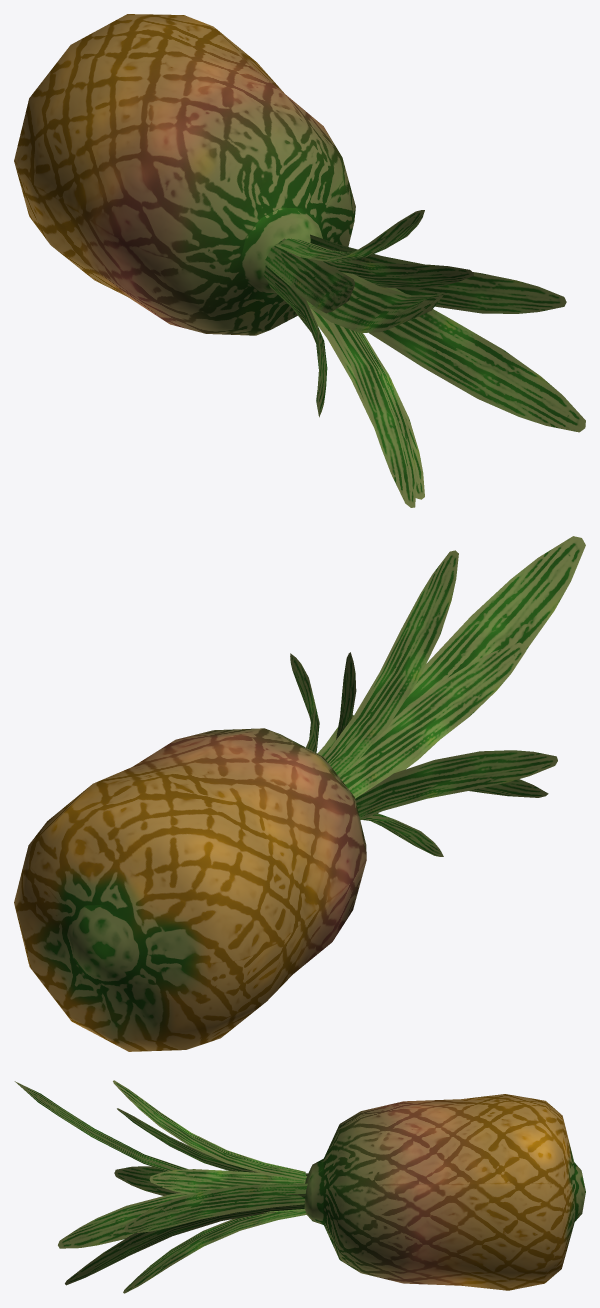
File: PineappleA.glb
The picture shows the model from 3 angles, top to bottom: view 1: azimuth 30°, elevation 25°; view 2: azimuth 150°, elevation 25°; view 3: azimuth 270°, elevation 25°; orthographic projection. The views are drawn at different scales.
Parts seen in each view (by area): view 1: PineappleA_Pineapple_0; view 2: PineappleA_Pineapple_0; view 3: PineappleA_Pineapple_0.
Boxes of the visible parts, x1,y1,x2,y2 form: PineappleA_Pineapple_0: [14, 14, 585, 507]; PineappleA_Pineapple_0: [14, 536, 585, 1051]; PineappleA_Pineapple_0: [14, 1080, 585, 1293].
Bounding box in the file's own units: 1.1 × 1.19 × 2.95.
1 material, 1 textured.
